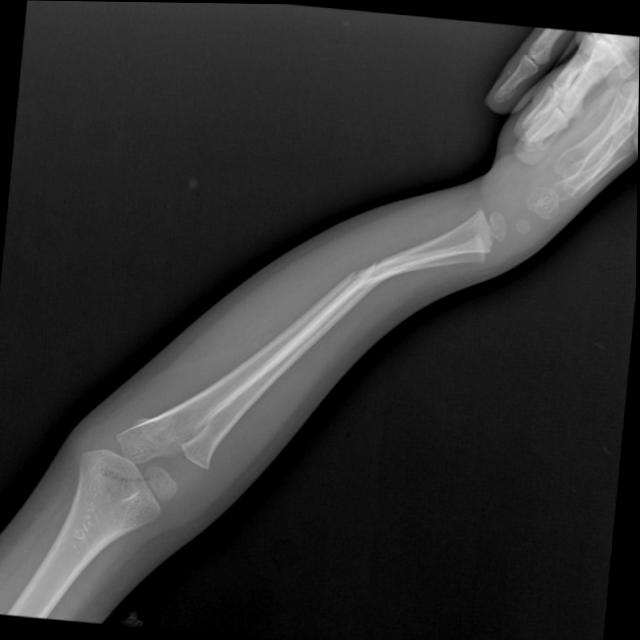Spiral: (326, 245, 392, 329)
